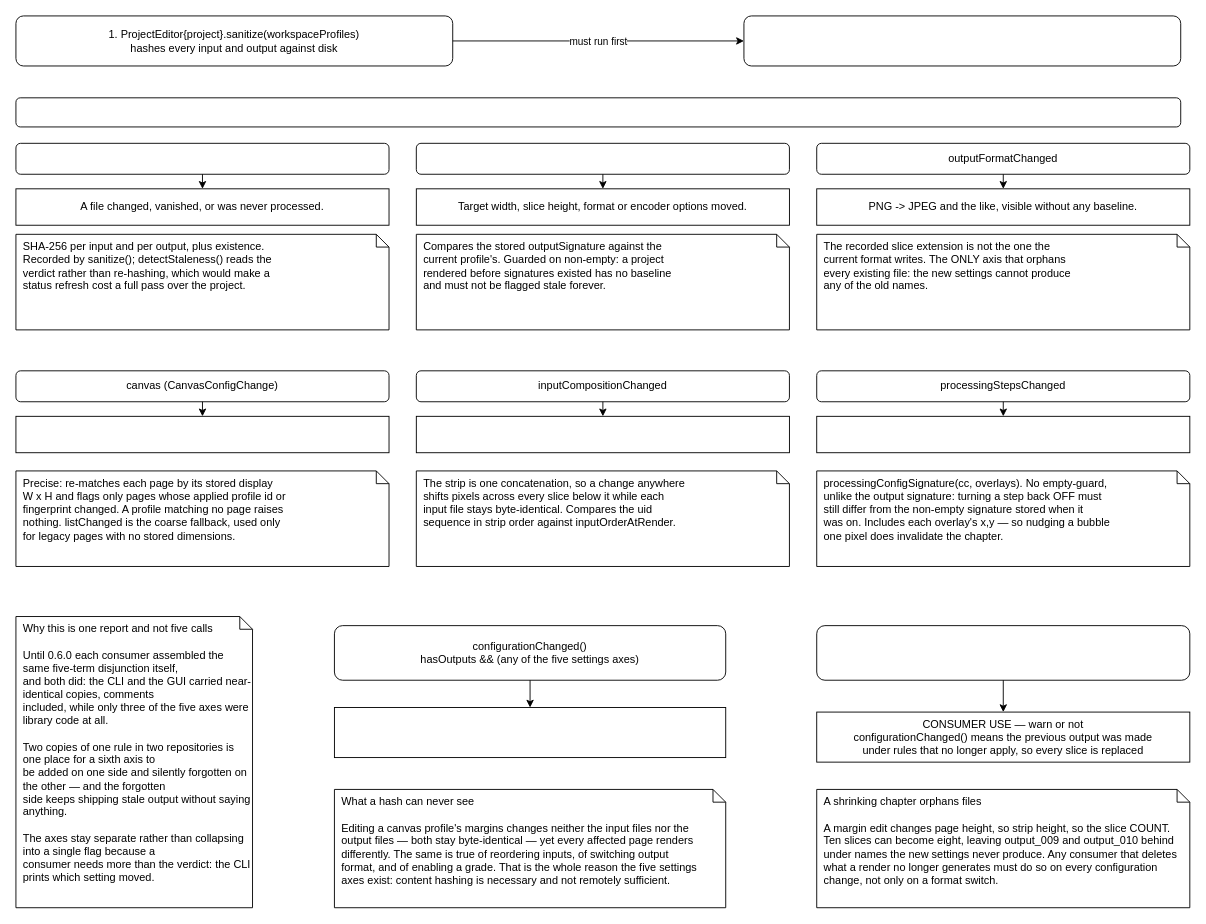
This 1206x924 diagram has some shape labels left out. The centre of each missing label's shape, as x and y in pixels:
"2. project.detectStaleness(workspaceProfiles, outputProfile) -> StalenessReport" belongs at (x=962, y=40).
"A canvas profile was edited, added, removed or reordered." belongs at (x=202, y=434).
"Colour correction or an overlay differs from the render's." belongs at (x=1003, y=434).
"CONSUMER USE — regenerate or not if (!staleness.needsRender()) -> nothing to do" belongs at (x=530, y=732).
"contentDirty" belongs at (x=202, y=158).
"Inputs added, removed or reordered." belongs at (x=602, y=434).
"needsRender() contentDirty || configurationChanged()" belongs at (x=1003, y=652).
"outputProfileChanged" belongs at (x=602, y=158).
"SIX AXES — each catches something the others cannot" belongs at (x=598, y=112).
